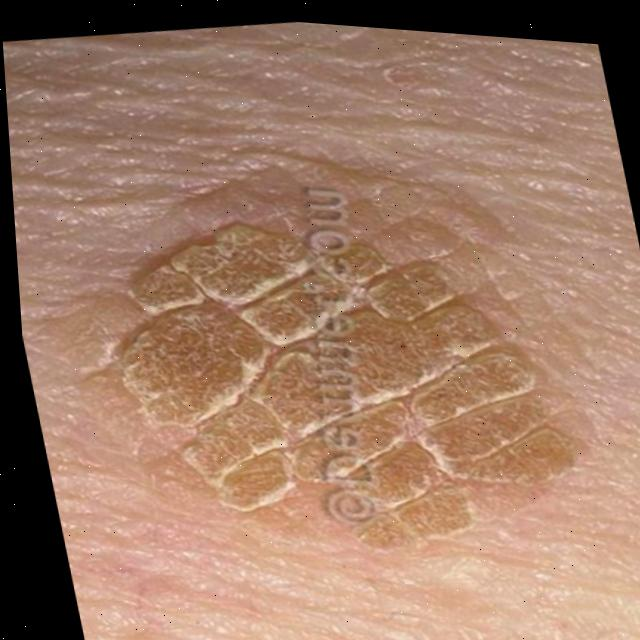Eczema: (131, 181, 524, 537)
